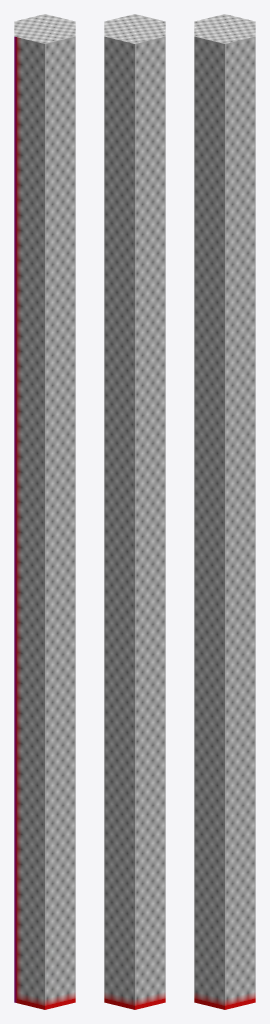
The model's file is Tube_Half.fbx.
3 views of the same model, side by side, from view 1: azimuth 30°, elevation 25°; view 2: azimuth 150°, elevation 25°; view 3: azimuth 330°, elevation 25° (orthographic).
Parts seen in each view (by area): view 1: Tube_Half; view 2: Tube_Half; view 3: Tube_Half.
Boxes of the visible parts, box(x1,y1,x2,y2) form: Tube_Half: box(14, 14, 75, 1009); Tube_Half: box(104, 14, 165, 1009); Tube_Half: box(194, 14, 255, 1009).
Size of the model in its own units: 20 by 300 by 17.32.
